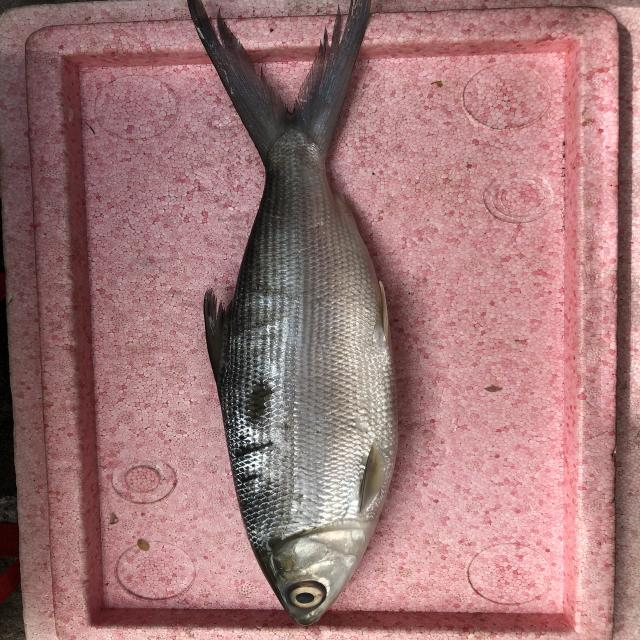Bangus-VF -11-12-: (151, 0, 422, 627)
Eye-6-: (279, 577, 328, 614)
Skin-5-: (202, 149, 412, 530)
